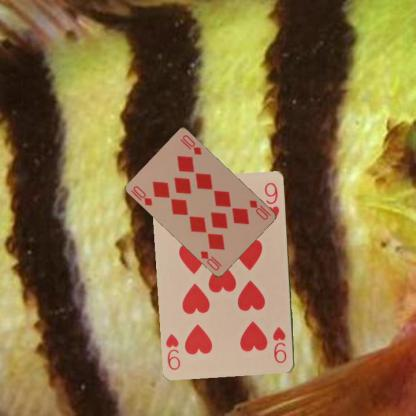10d: (128, 183, 154, 208), (247, 197, 272, 221)
9h: (270, 324, 288, 365)
